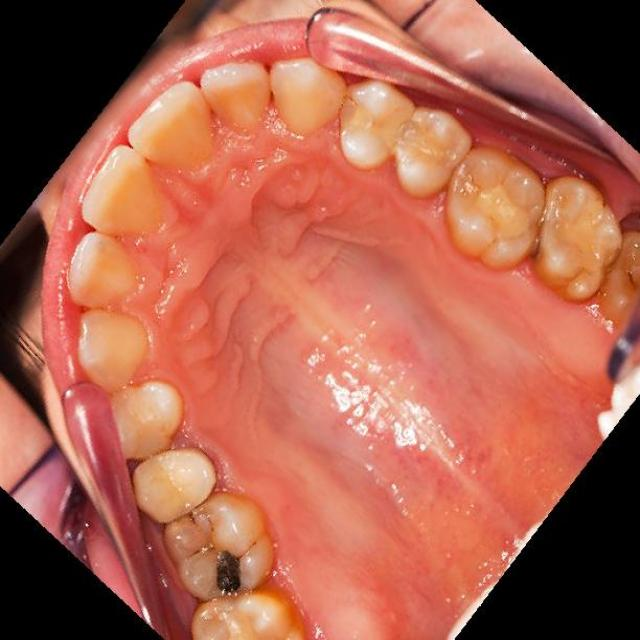caries: (205, 540, 252, 603), (183, 504, 221, 540), (615, 248, 640, 293)
